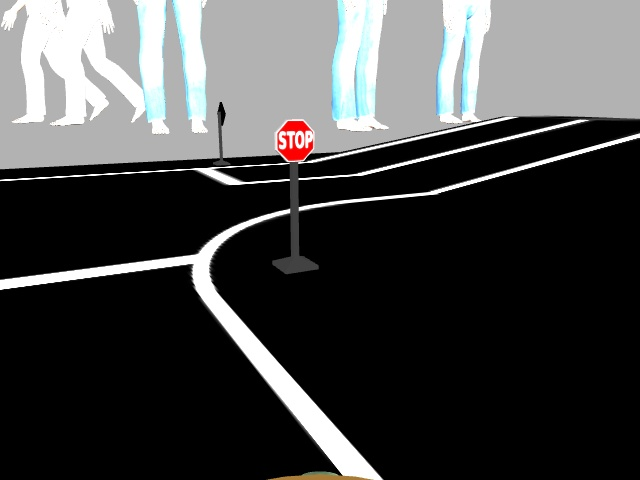Stop: (276, 116, 313, 161)
